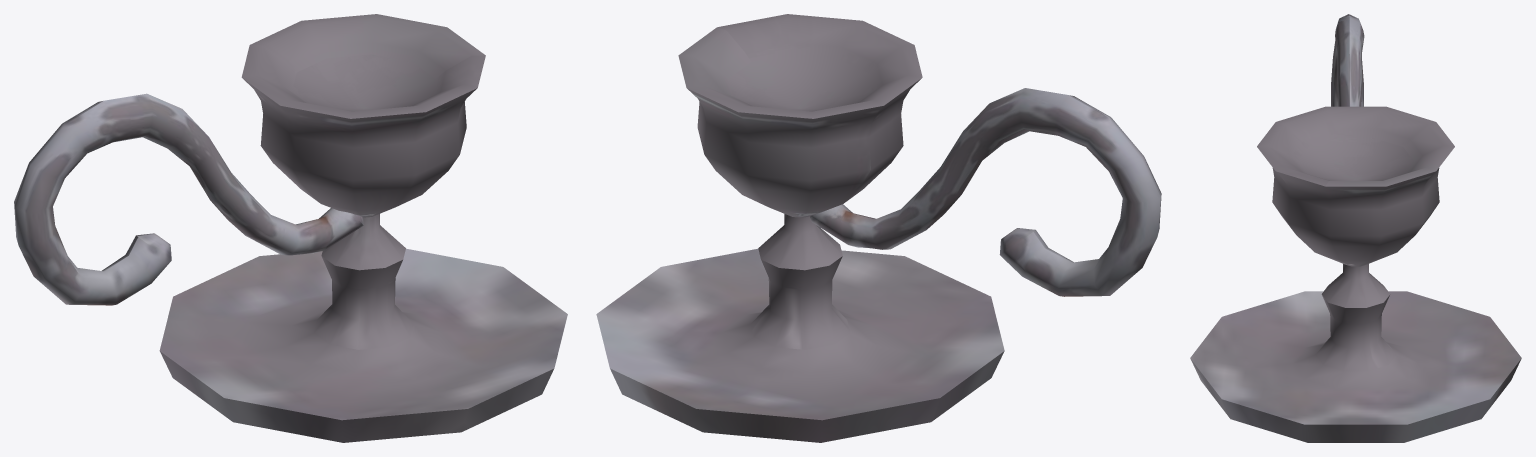
Rendered from CandleStick.gltf.
3 views of the same model, side by side, from view 1: azimuth 30°, elevation 25°; view 2: azimuth 150°, elevation 25°; view 3: azimuth 270°, elevation 25° (orthographic). The views are drawn at different scales.
Visible parts, largest first — view 1: CandleStick; view 2: CandleStick; view 3: CandleStick.
Boxes of the visible parts, x1=… form: CandleStick: x1=14, y1=14, x2=567, y2=442; CandleStick: x1=596, y1=14, x2=1161, y2=442; CandleStick: x1=1190, y1=14, x2=1521, y2=442.
Bounding box in the file's own units: 0.2609 × 0.1552 × 0.1794.
Materials: 1 (1 with a texture image).
